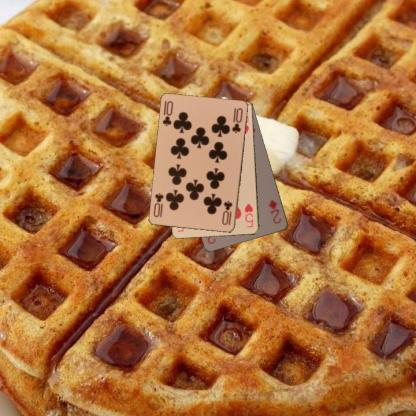10c: (219, 198, 234, 227), (160, 98, 175, 127)
2d: (266, 197, 283, 225)
5h: (242, 201, 255, 229)
